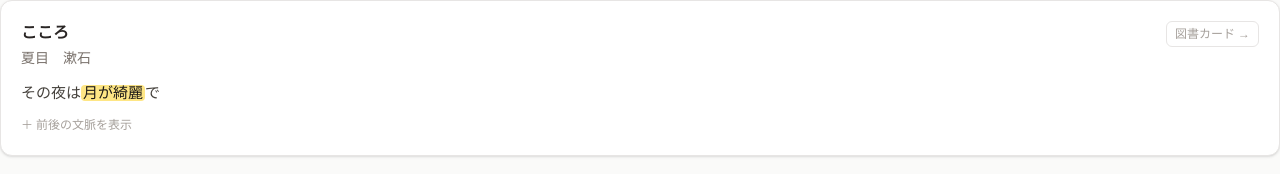
Test case: ResultCard › UI-25: 再クリックで snippet に戻る
Click the element showing "こころ 夏目 漱石 図書カード → その夜は月が綺麗で ＋ 前後の文脈を表示" at (640,78), box [0,0,1279,156]
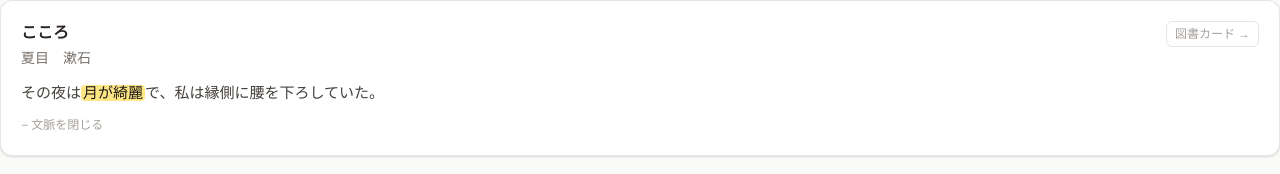
Click the element showing "こころ 夏目 漱石 図書カード → その夜は月が綺麗で、私は縁側に腰を下ろしていた。 − 文脈を閉じる" at (640,78), box [0,0,1279,156]
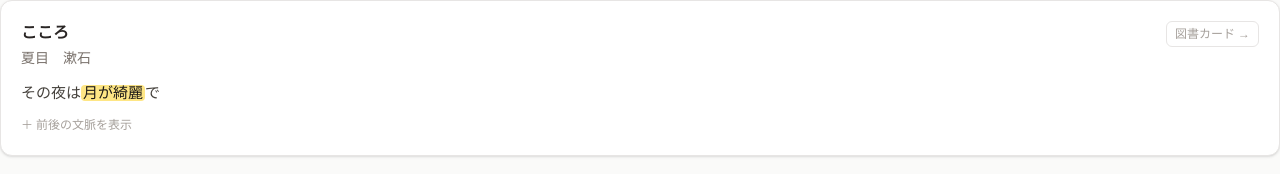
Expected: the text "縁側に腰を下ろしていた" is gone
